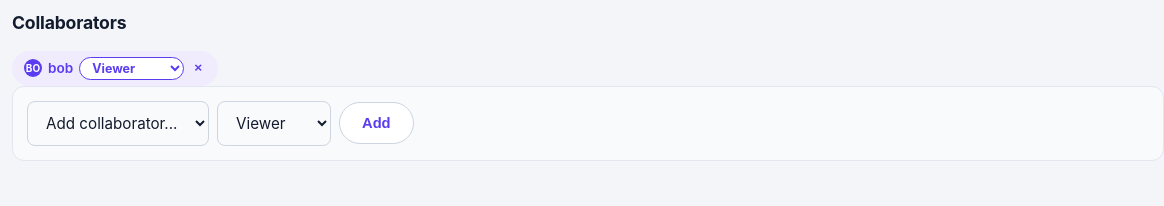
Test case: Collaborators › shows an error and does not crash if a mutation fails
The width and height of the screenshot is (1164, 206).
Check: the text "bob" is shown, box [48,60,73,76]
Click the button named "remove bob" at (198, 68), box [190,60,206,76]
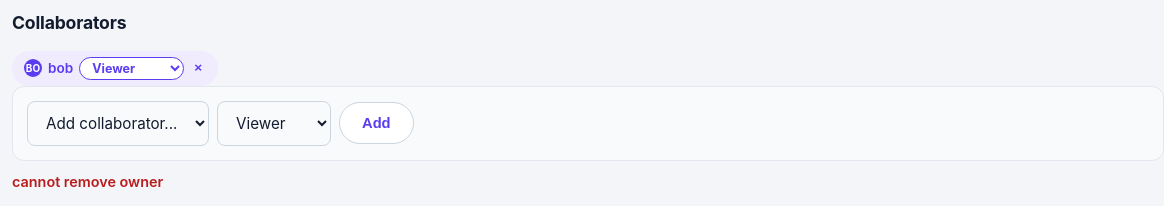
Check: the text "cannot remove owner" is shown, box [12,173,163,190]
